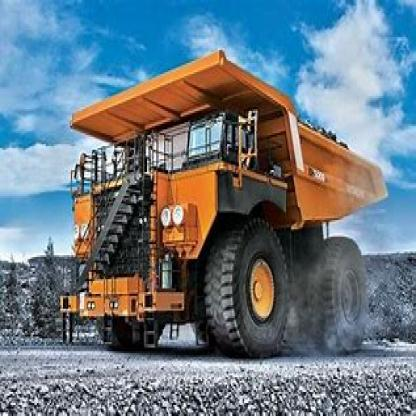dump_truck: (59, 63, 367, 368)
